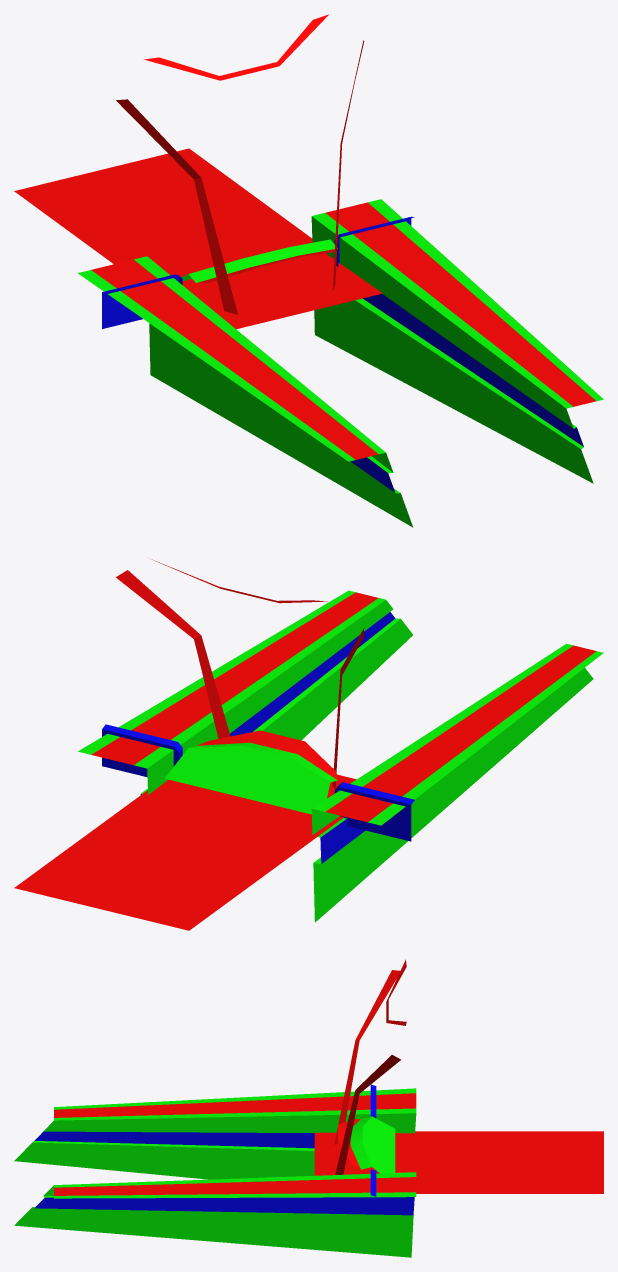
The model's file is FPV_Starship_Rook.fbx.
3 views of the same model, one above another, from view 1: azimuth 30°, elevation 25°; view 2: azimuth 150°, elevation 25°; view 3: azimuth 270°, elevation 25° (orthographic). The views are drawn at different scales.
Visible parts, largest first — view 1: FPV_MainBody_Rook; view 2: FPV_MainBody_Rook; view 3: FPV_MainBody_Rook.
Part boxes in pixels (<box>): FPV_MainBody_Rook: <box>14,14,603,527</box>; FPV_MainBody_Rook: <box>14,558,603,930</box>; FPV_MainBody_Rook: <box>14,959,603,1257</box>.
Bounding box in the file's own units: 2.44 × 2.42 × 5.49.
